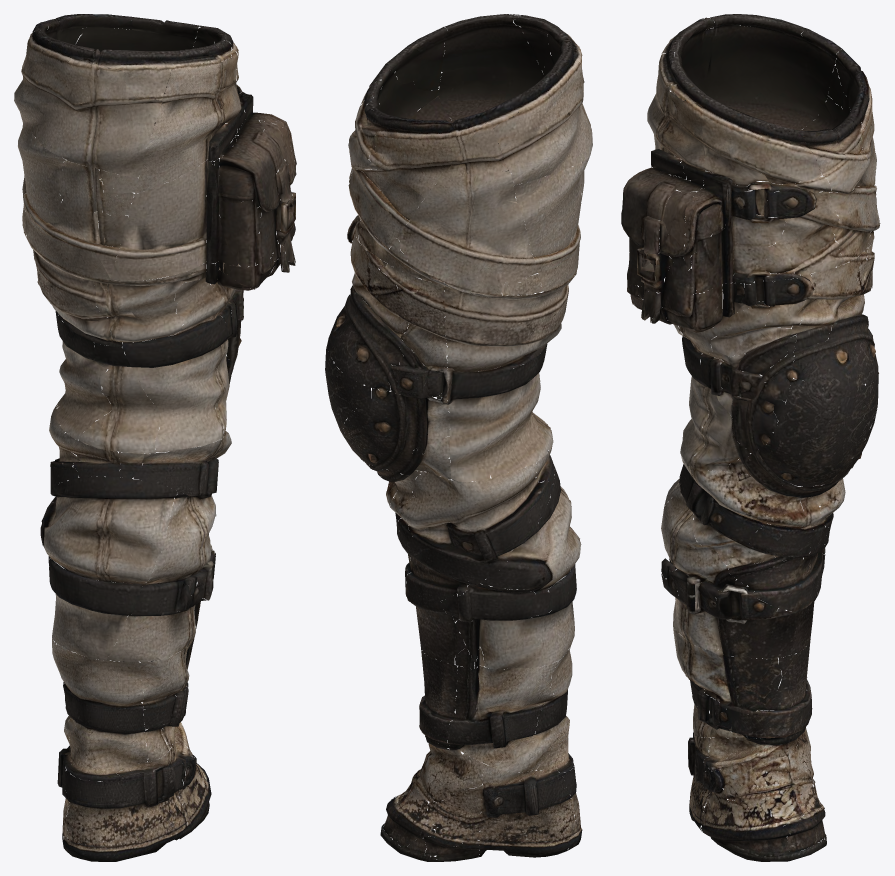
File: a_ward_greaves.glb
3 views of the same model, side by side, from view 1: azimuth 30°, elevation 25°; view 2: azimuth 150°, elevation 25°; view 3: azimuth 270°, elevation 25° (orthographic). The views are drawn at different scales.
Parts seen in each view (by area): view 1: tripo_node_50fa23ae-e174-44a2-a016-1e0c5b5d46d9; view 2: tripo_node_50fa23ae-e174-44a2-a016-1e0c5b5d46d9; view 3: tripo_node_50fa23ae-e174-44a2-a016-1e0c5b5d46d9.
Boxes of the visible parts, x1,y1,x2,y2 form: tripo_node_50fa23ae-e174-44a2-a016-1e0c5b5d46d9: (14,14,296,861); tripo_node_50fa23ae-e174-44a2-a016-1e0c5b5d46d9: (325,14,592,861); tripo_node_50fa23ae-e174-44a2-a016-1e0c5b5d46d9: (621,14,880,861).
Bounding box in the file's own units: 0.2858 × 0.9804 × 0.2944.
Materials: 1 (1 with a texture image).
